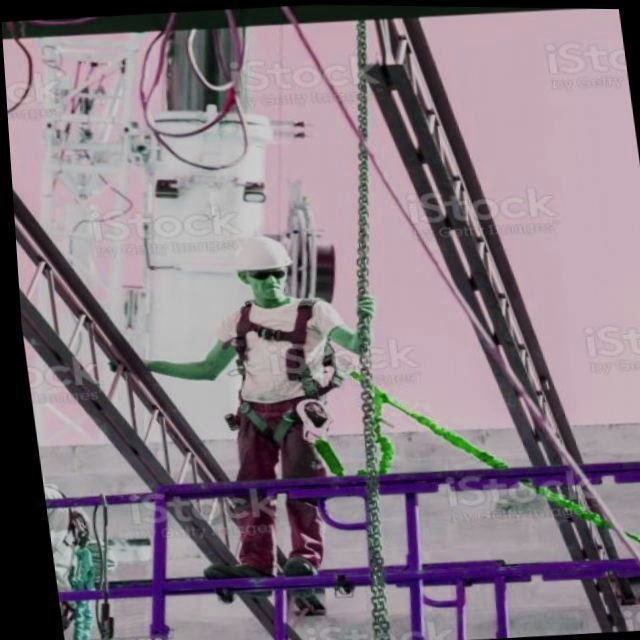safety belt: (212, 295, 352, 415)
